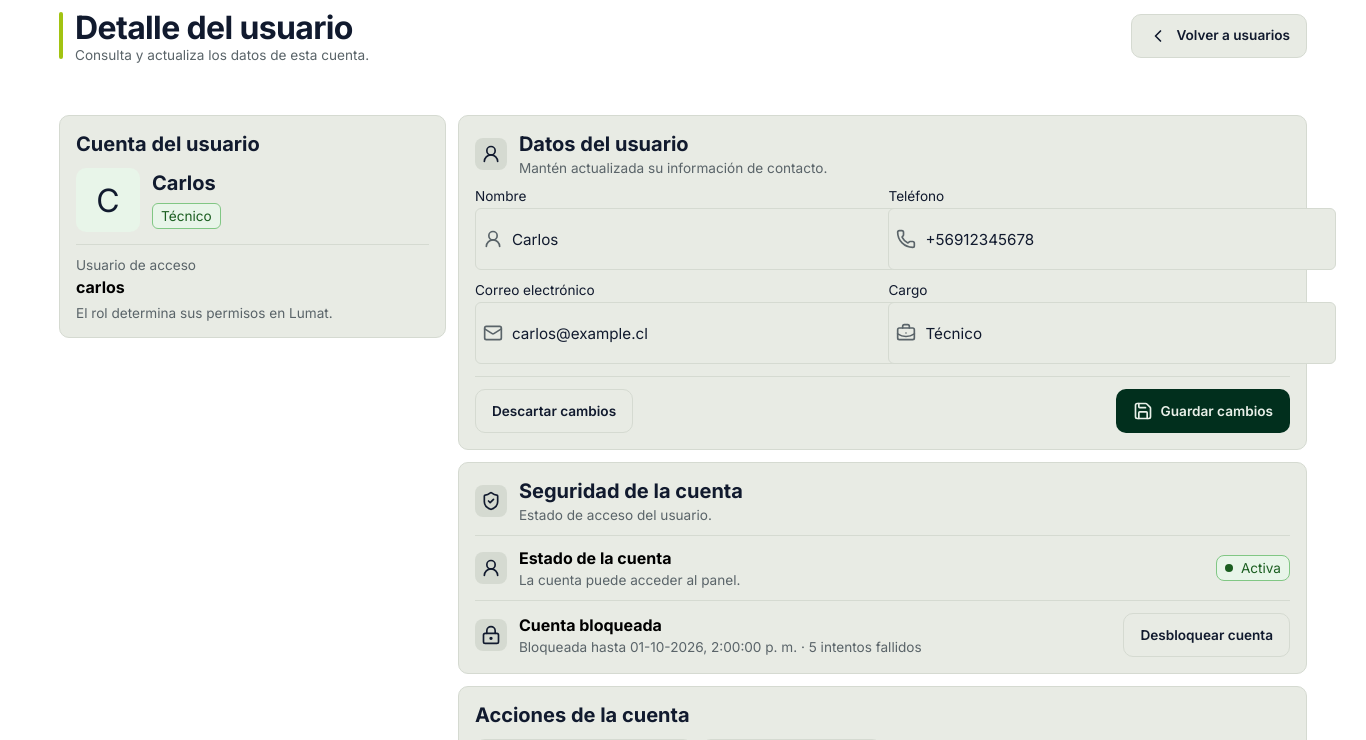
UserFicha › discards unsaved changes back to loaded values
The width and height of the screenshot is (1366, 740).
Replace the text in the field labelled "Nombre" with "Changed". click: (699, 239)
box: [475,208,922,270]
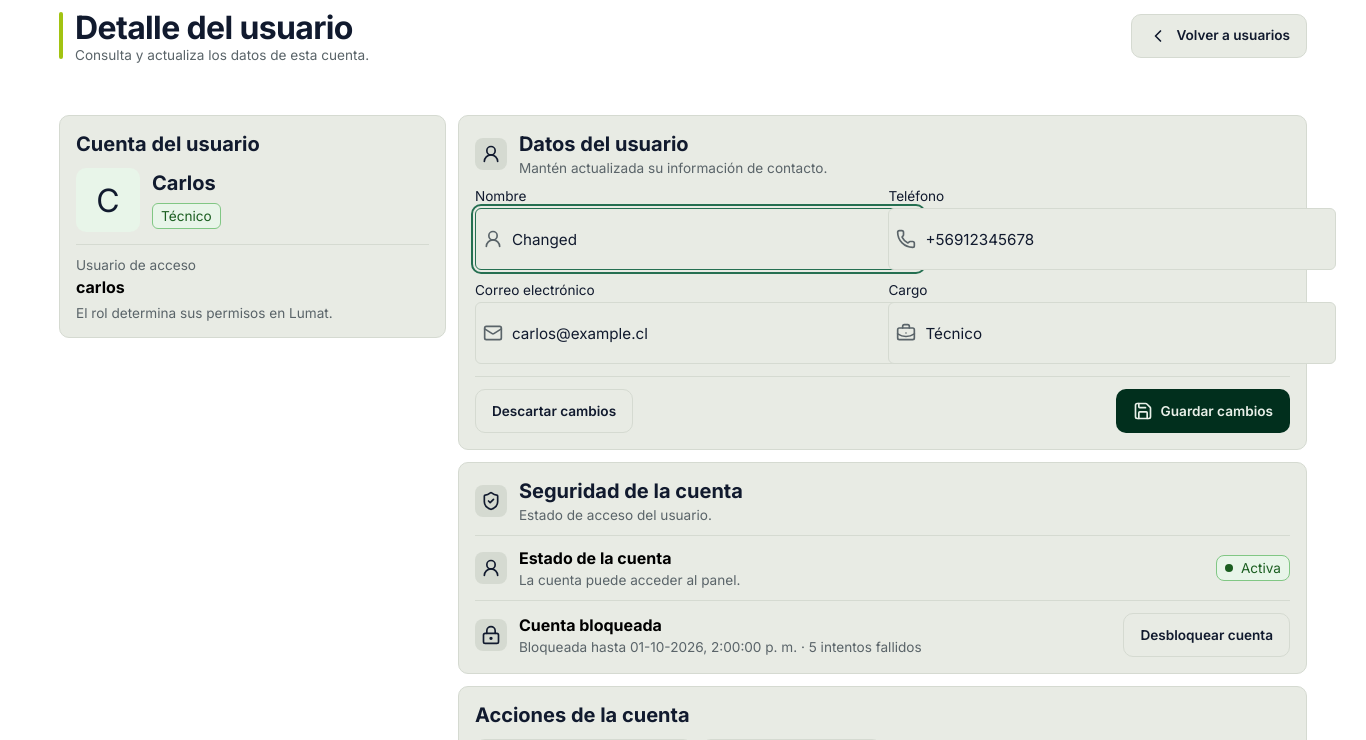
Click the button "Descartar cambios". click: click(554, 411)
box: [475,389,633,433]
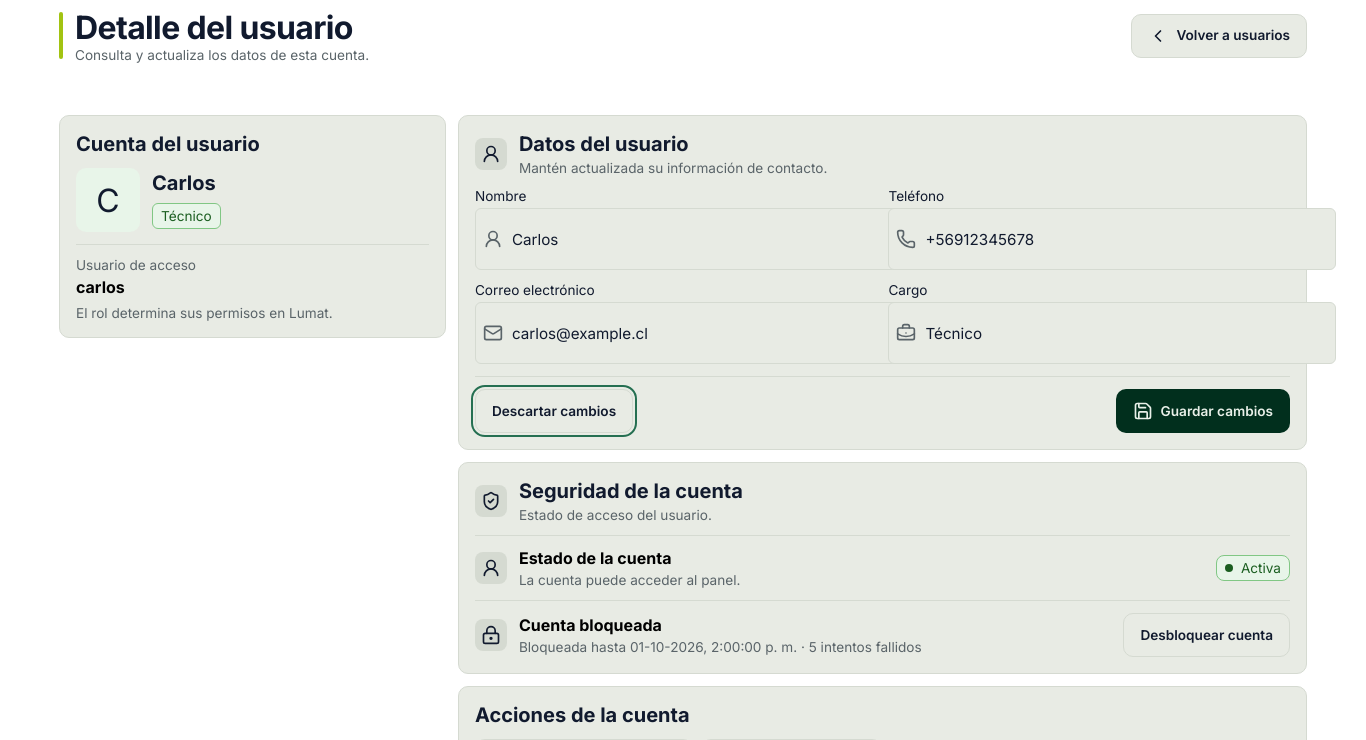
Result: the field labelled "Nombre" holds "Carlos" at [475,208,922,270]
